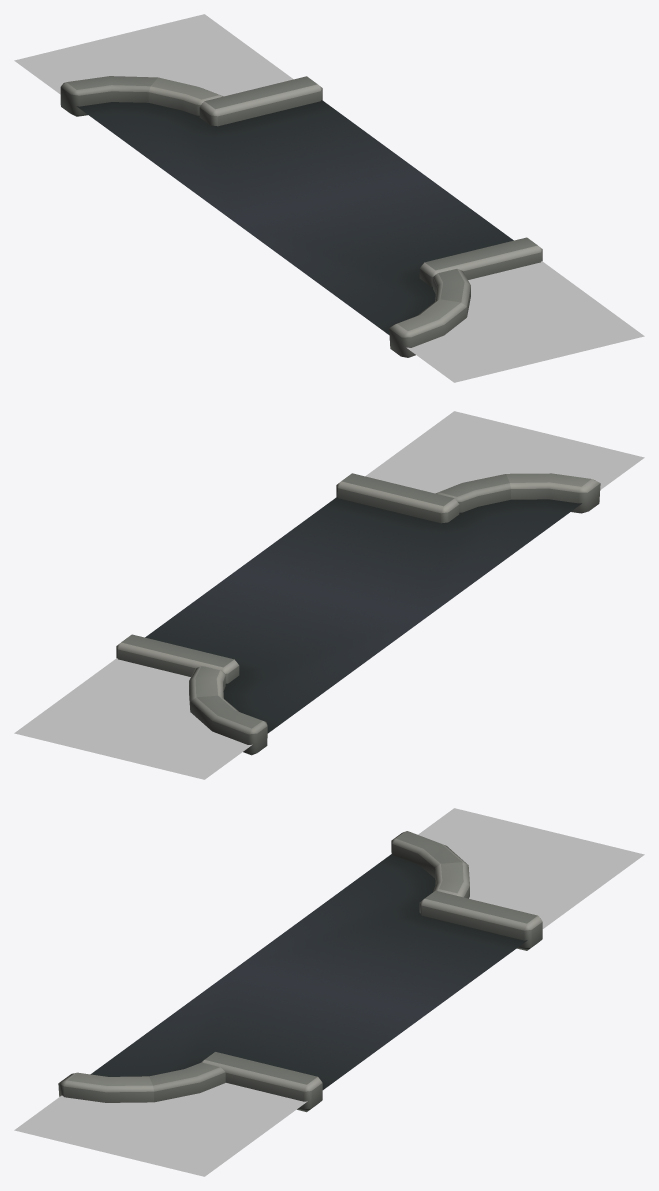
The model's file is road_to_lane_middle.fbx.
The picture shows the model from 3 angles, top to bottom: view 1: azimuth 30°, elevation 25°; view 2: azimuth 150°, elevation 25°; view 3: azimuth 330°, elevation 25°; orthographic projection.
Visible parts, largest first — view 1: road_to_lane_middle, road_to_lane_middle_sidewalk; view 2: road_to_lane_middle, road_to_lane_middle_sidewalk; view 3: road_to_lane_middle, road_to_lane_middle_sidewalk.
Boxes of the visible parts, left/top/right/bottom form: road_to_lane_middle: left=60, top=76, right=542, bottom=357; road_to_lane_middle_sidewalk: left=14, top=14, right=644, bottom=382; road_to_lane_middle: left=116, top=473, right=600, bottom=755; road_to_lane_middle_sidewalk: left=14, top=411, right=644, bottom=779; road_to_lane_middle: left=58, top=831, right=542, bottom=1112; road_to_lane_middle_sidewalk: left=14, top=808, right=644, bottom=1176.
Bounding box in the file's own units: 413 × 55 × 1600.
